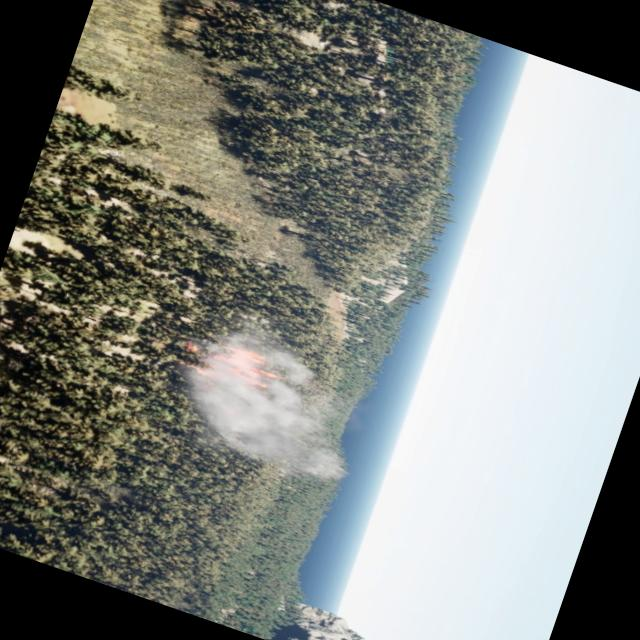fire: (166, 324, 290, 401)
smoke: (163, 304, 387, 490)
